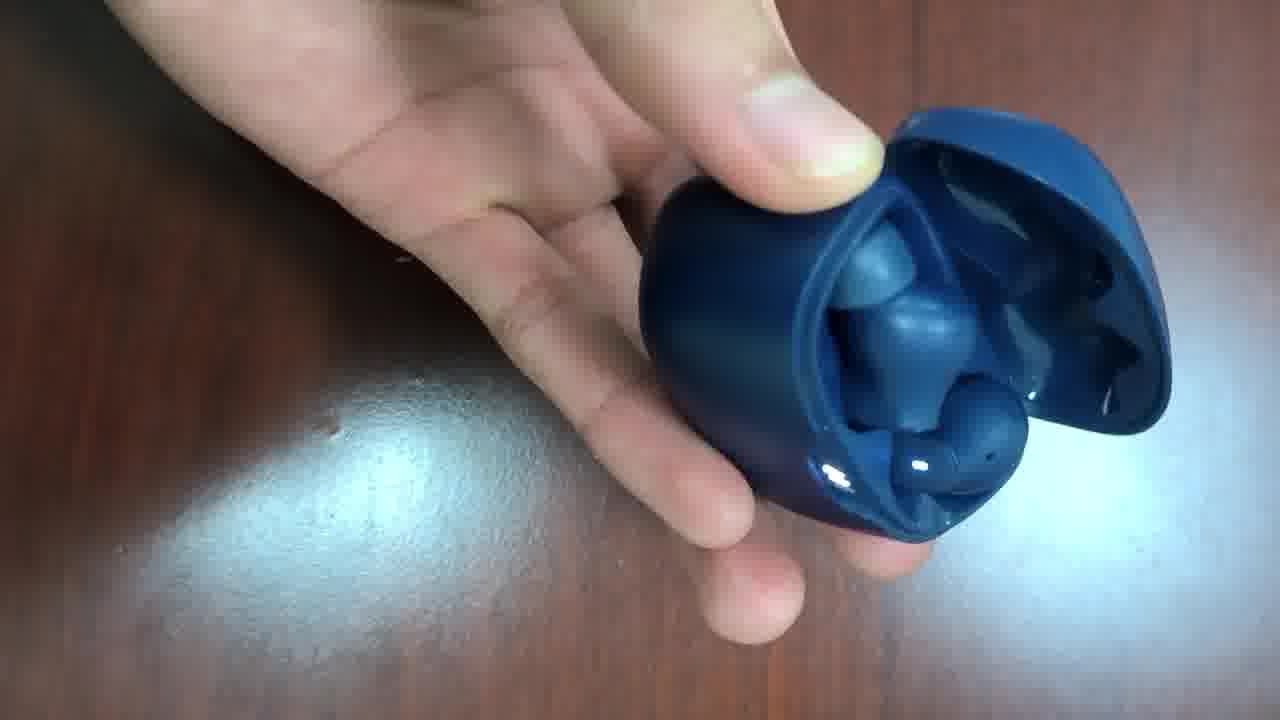Earbud: (830, 221, 977, 430), (890, 375, 1027, 493)
